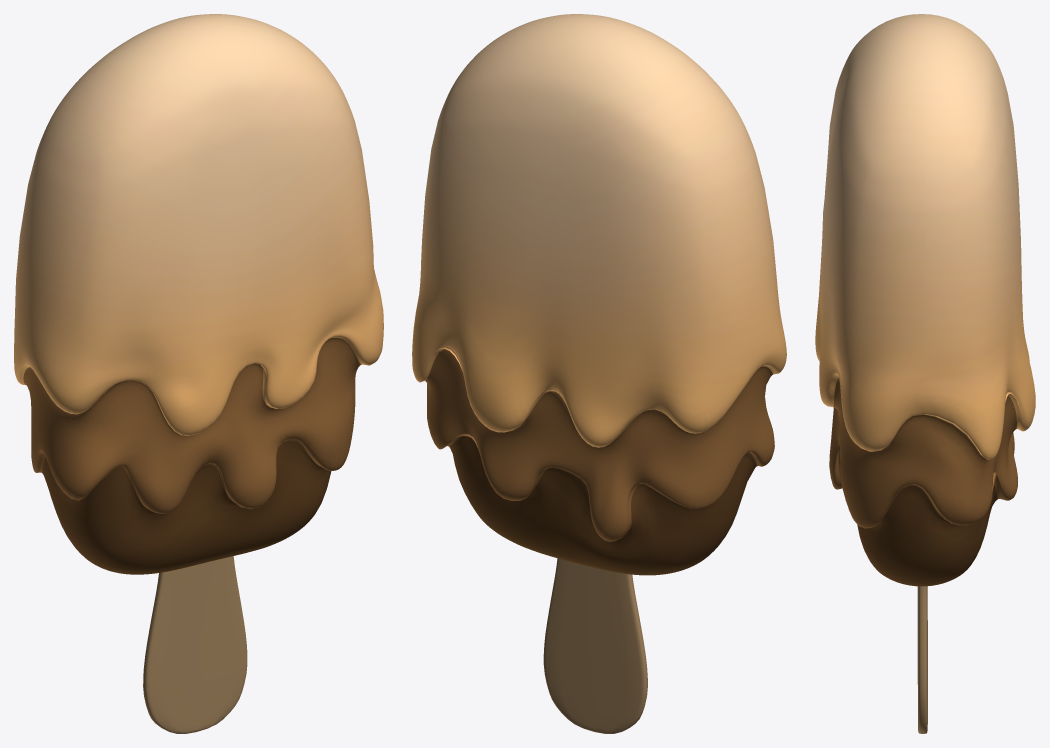
File: Project Name.gltf
The picture shows the model from 3 angles, left to right: view 1: azimuth 30°, elevation 25°; view 2: azimuth 150°, elevation 25°; view 3: azimuth 270°, elevation 25°; orthographic projection.
Parts seen in each view (by area): view 1: Frosting, Dark frosting, Darker frosting, Stick; view 2: Frosting, Dark frosting, Darker frosting, Stick; view 3: Frosting, Dark frosting, Darker frosting, Stick.
Part boxes in pixels (bbox=[...]): Frosting: bbox=[14, 14, 383, 435]; Dark frosting: bbox=[23, 338, 361, 513]; Darker frosting: bbox=[42, 440, 331, 574]; Stick: bbox=[143, 556, 247, 733]; Frosting: bbox=[412, 14, 786, 447]; Dark frosting: bbox=[425, 349, 774, 541]; Darker frosting: bbox=[449, 436, 756, 575]; Stick: bbox=[543, 558, 647, 733]; Frosting: bbox=[815, 14, 1035, 459]; Dark frosting: bbox=[829, 377, 1017, 528]; Darker frosting: bbox=[857, 485, 997, 586]; Stick: bbox=[917, 586, 927, 733].
Size of the model in its own units: 0.0872 by 0.1755 by 0.05.
4 materials, 3 textured.
